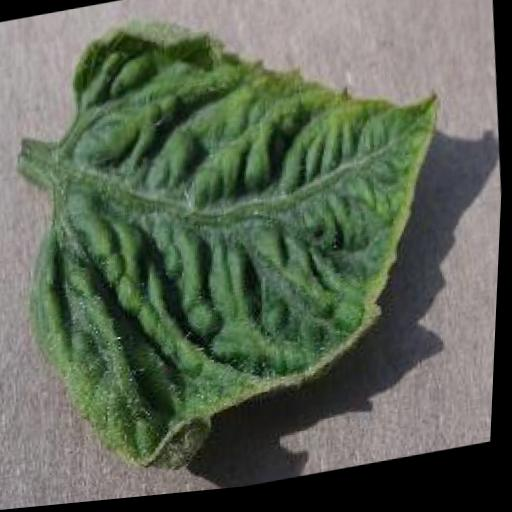Yellow Leaf Curl Virus: (0, 0, 476, 494)
